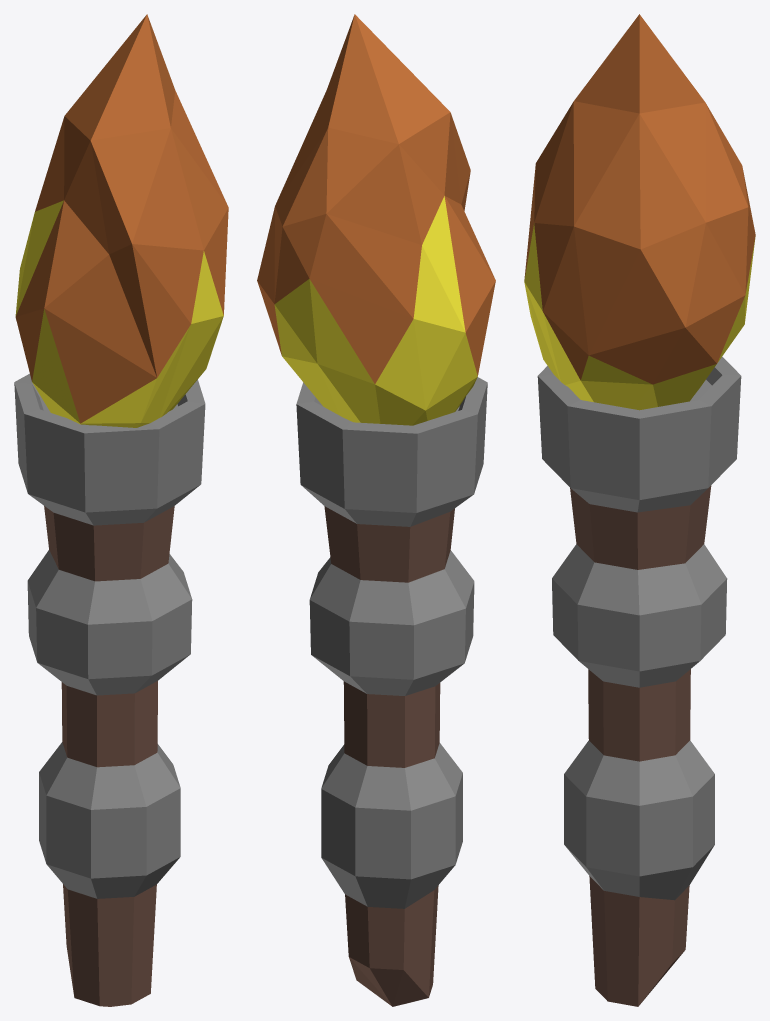
Rendered from Torch.fbx.
3 views of the same model, side by side, from view 1: azimuth 30°, elevation 25°; view 2: azimuth 150°, elevation 25°; view 3: azimuth 270°, elevation 25° (orthographic). The views are drawn at different scales.
Parts seen in each view (by area): view 1: Torch, Fire; view 2: Torch, Fire; view 3: Torch, Fire.
Boxes of the visible parts, x1,y1,x2,y2 form: Torch: [14, 373, 205, 1006]; Fire: [15, 14, 228, 427]; Torch: [296, 377, 487, 1006]; Fire: [257, 14, 495, 425]; Torch: [537, 356, 741, 1006]; Fire: [524, 14, 755, 410].
Size of the model in its own units: 211 by 998 by 207.
